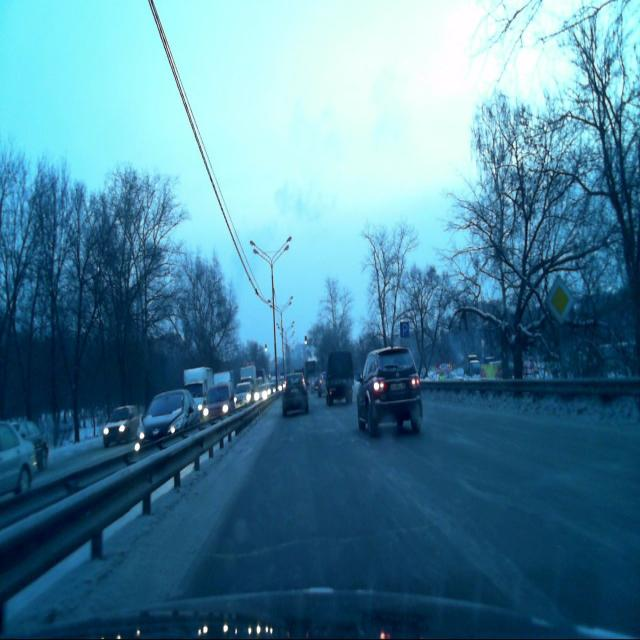road sign: (546, 274, 571, 323), (400, 321, 408, 339)
